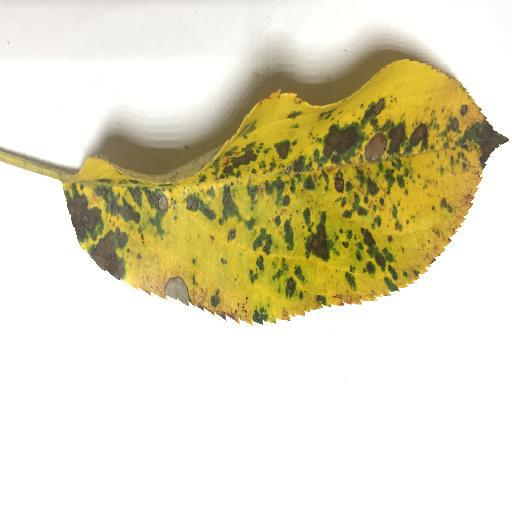Brown_Spot: (58, 39, 504, 326)
